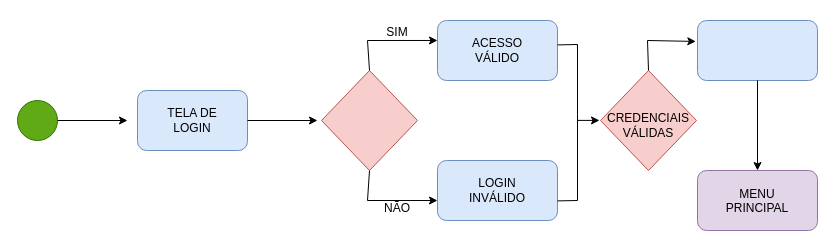
Some shapes in this 835 by 248 pixel diagram are drawn without their labels. The box of each missing label's shape, as (x1, y1, x2, y2) in pixels:
INICIAR SESSÃO: (696, 20, 818, 80)
INÍCIO: (16, 100, 58, 140)
USÚARIO E SENHA: (320, 70, 418, 170)
